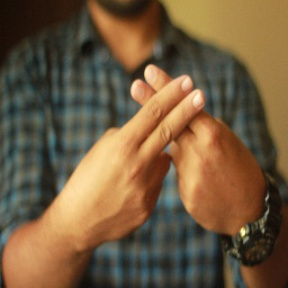F: (109, 59, 223, 183)
